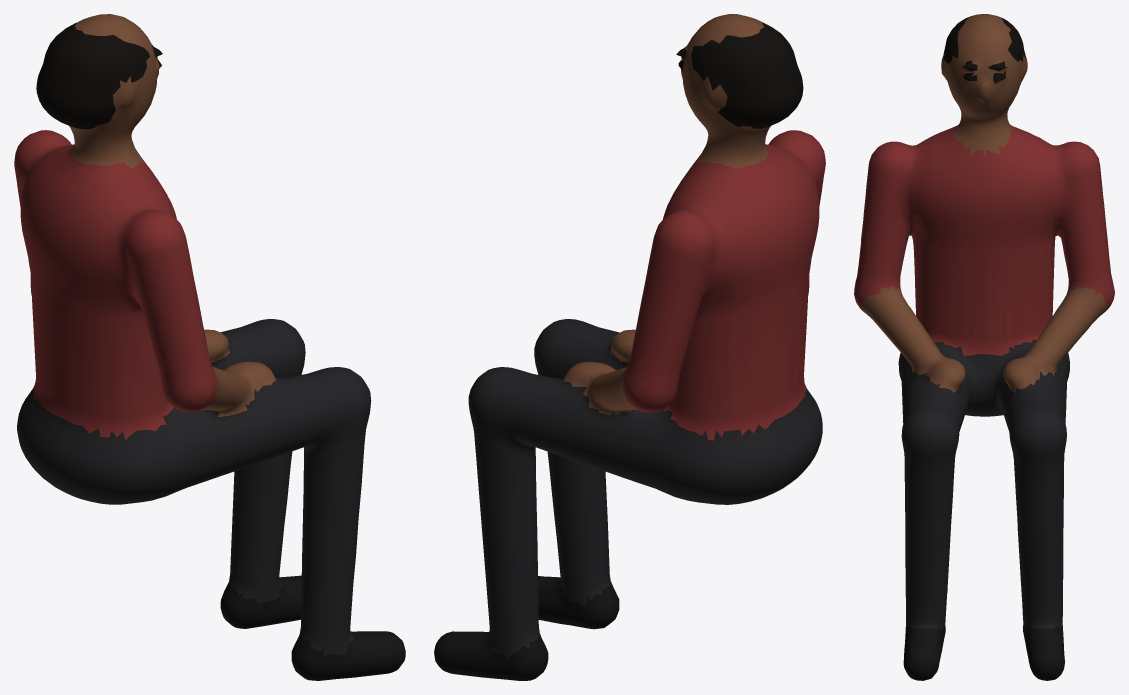
Rendered from SM_Crowd_Seated_B.glb.
3 renders of one model, left to right at view 1: azimuth 30°, elevation 25°; view 2: azimuth 150°, elevation 25°; view 3: azimuth 270°, elevation 25°, orthographic. The views are drawn at different scales.
Visible parts, largest first — view 1: SM_Crowd_Seated_B; view 2: SM_Crowd_Seated_B; view 3: SM_Crowd_Seated_B.
Boxes of the visible parts, x1=… form: SM_Crowd_Seated_B: x1=14, y1=14, x2=405, y2=680; SM_Crowd_Seated_B: x1=434, y1=14, x2=825, y2=680; SM_Crowd_Seated_B: x1=854, y1=14, x2=1114, y2=680.
Size of the model in its own units: 0.6986 by 1.38 by 0.5797.
